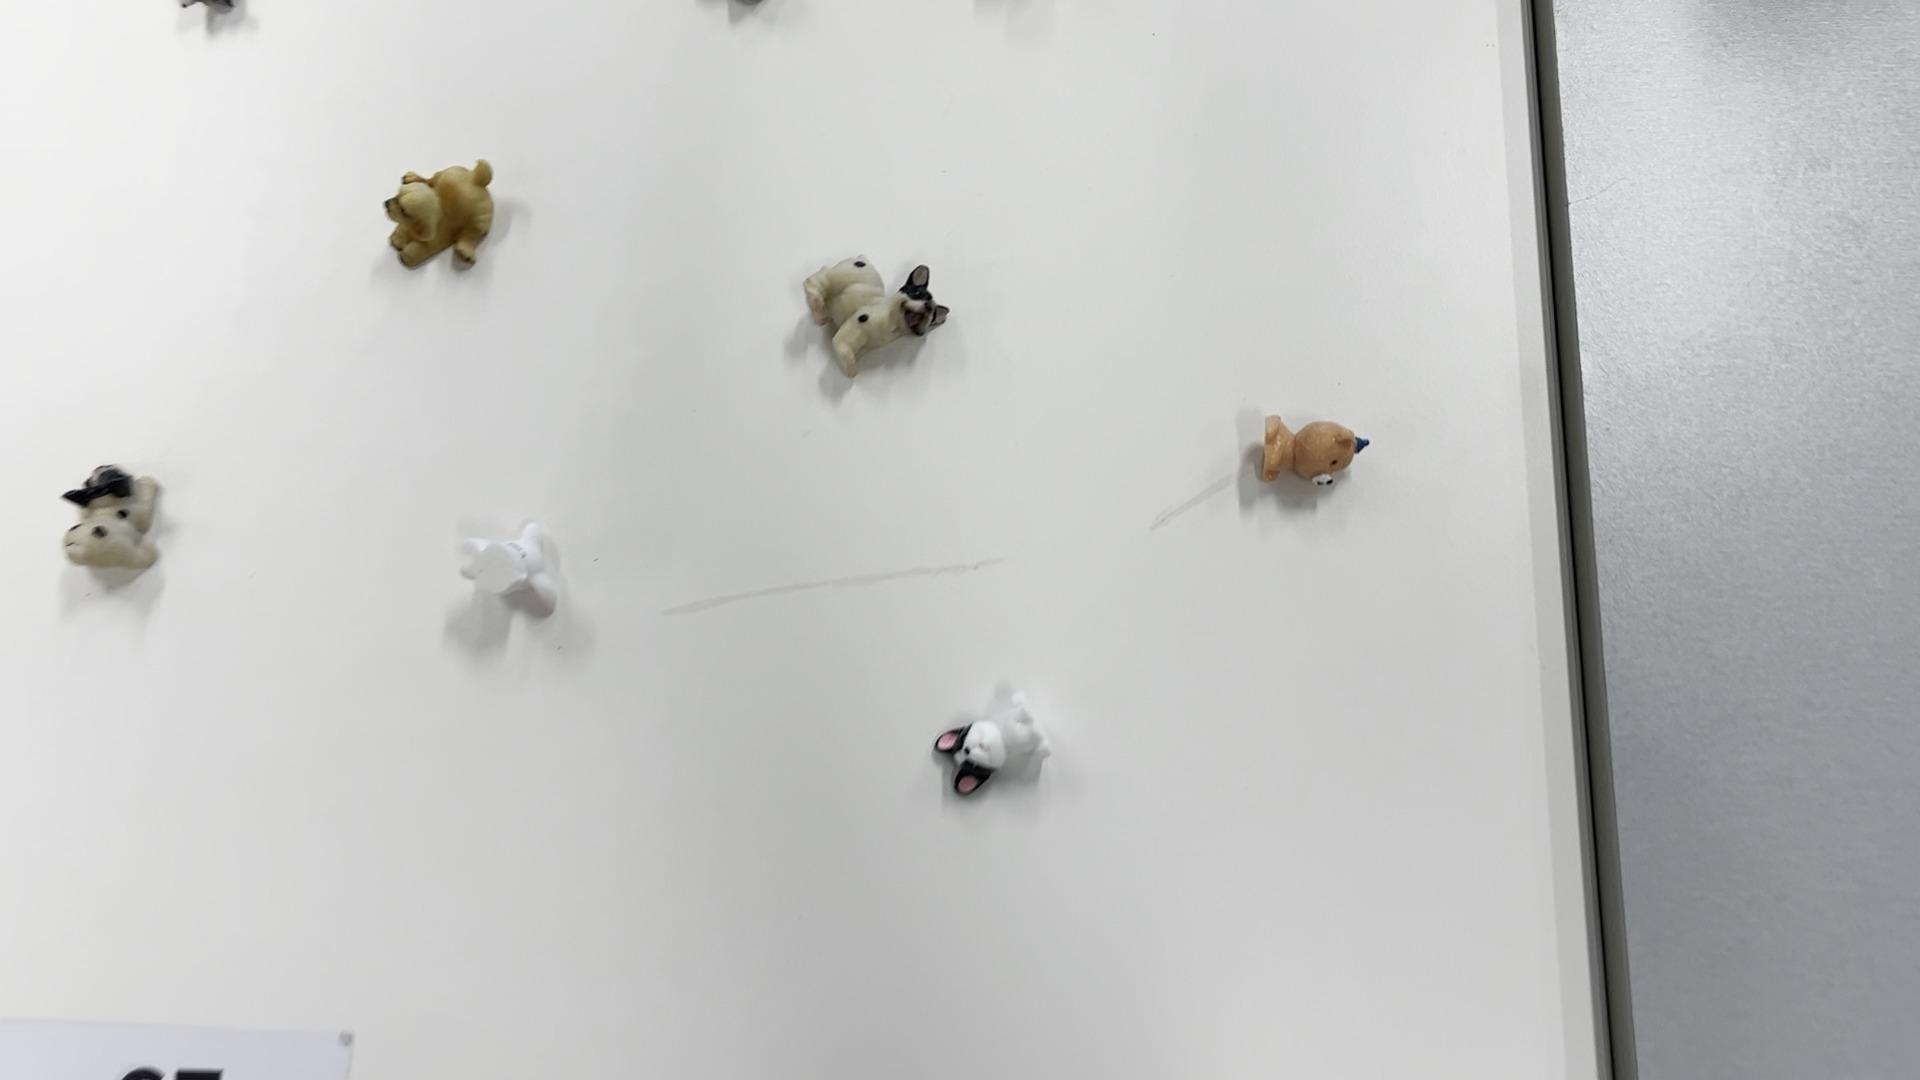pet: (794, 248, 956, 388), (51, 455, 173, 580), (934, 684, 1055, 804), (381, 157, 505, 273), (451, 517, 568, 620), (1261, 410, 1373, 495)
